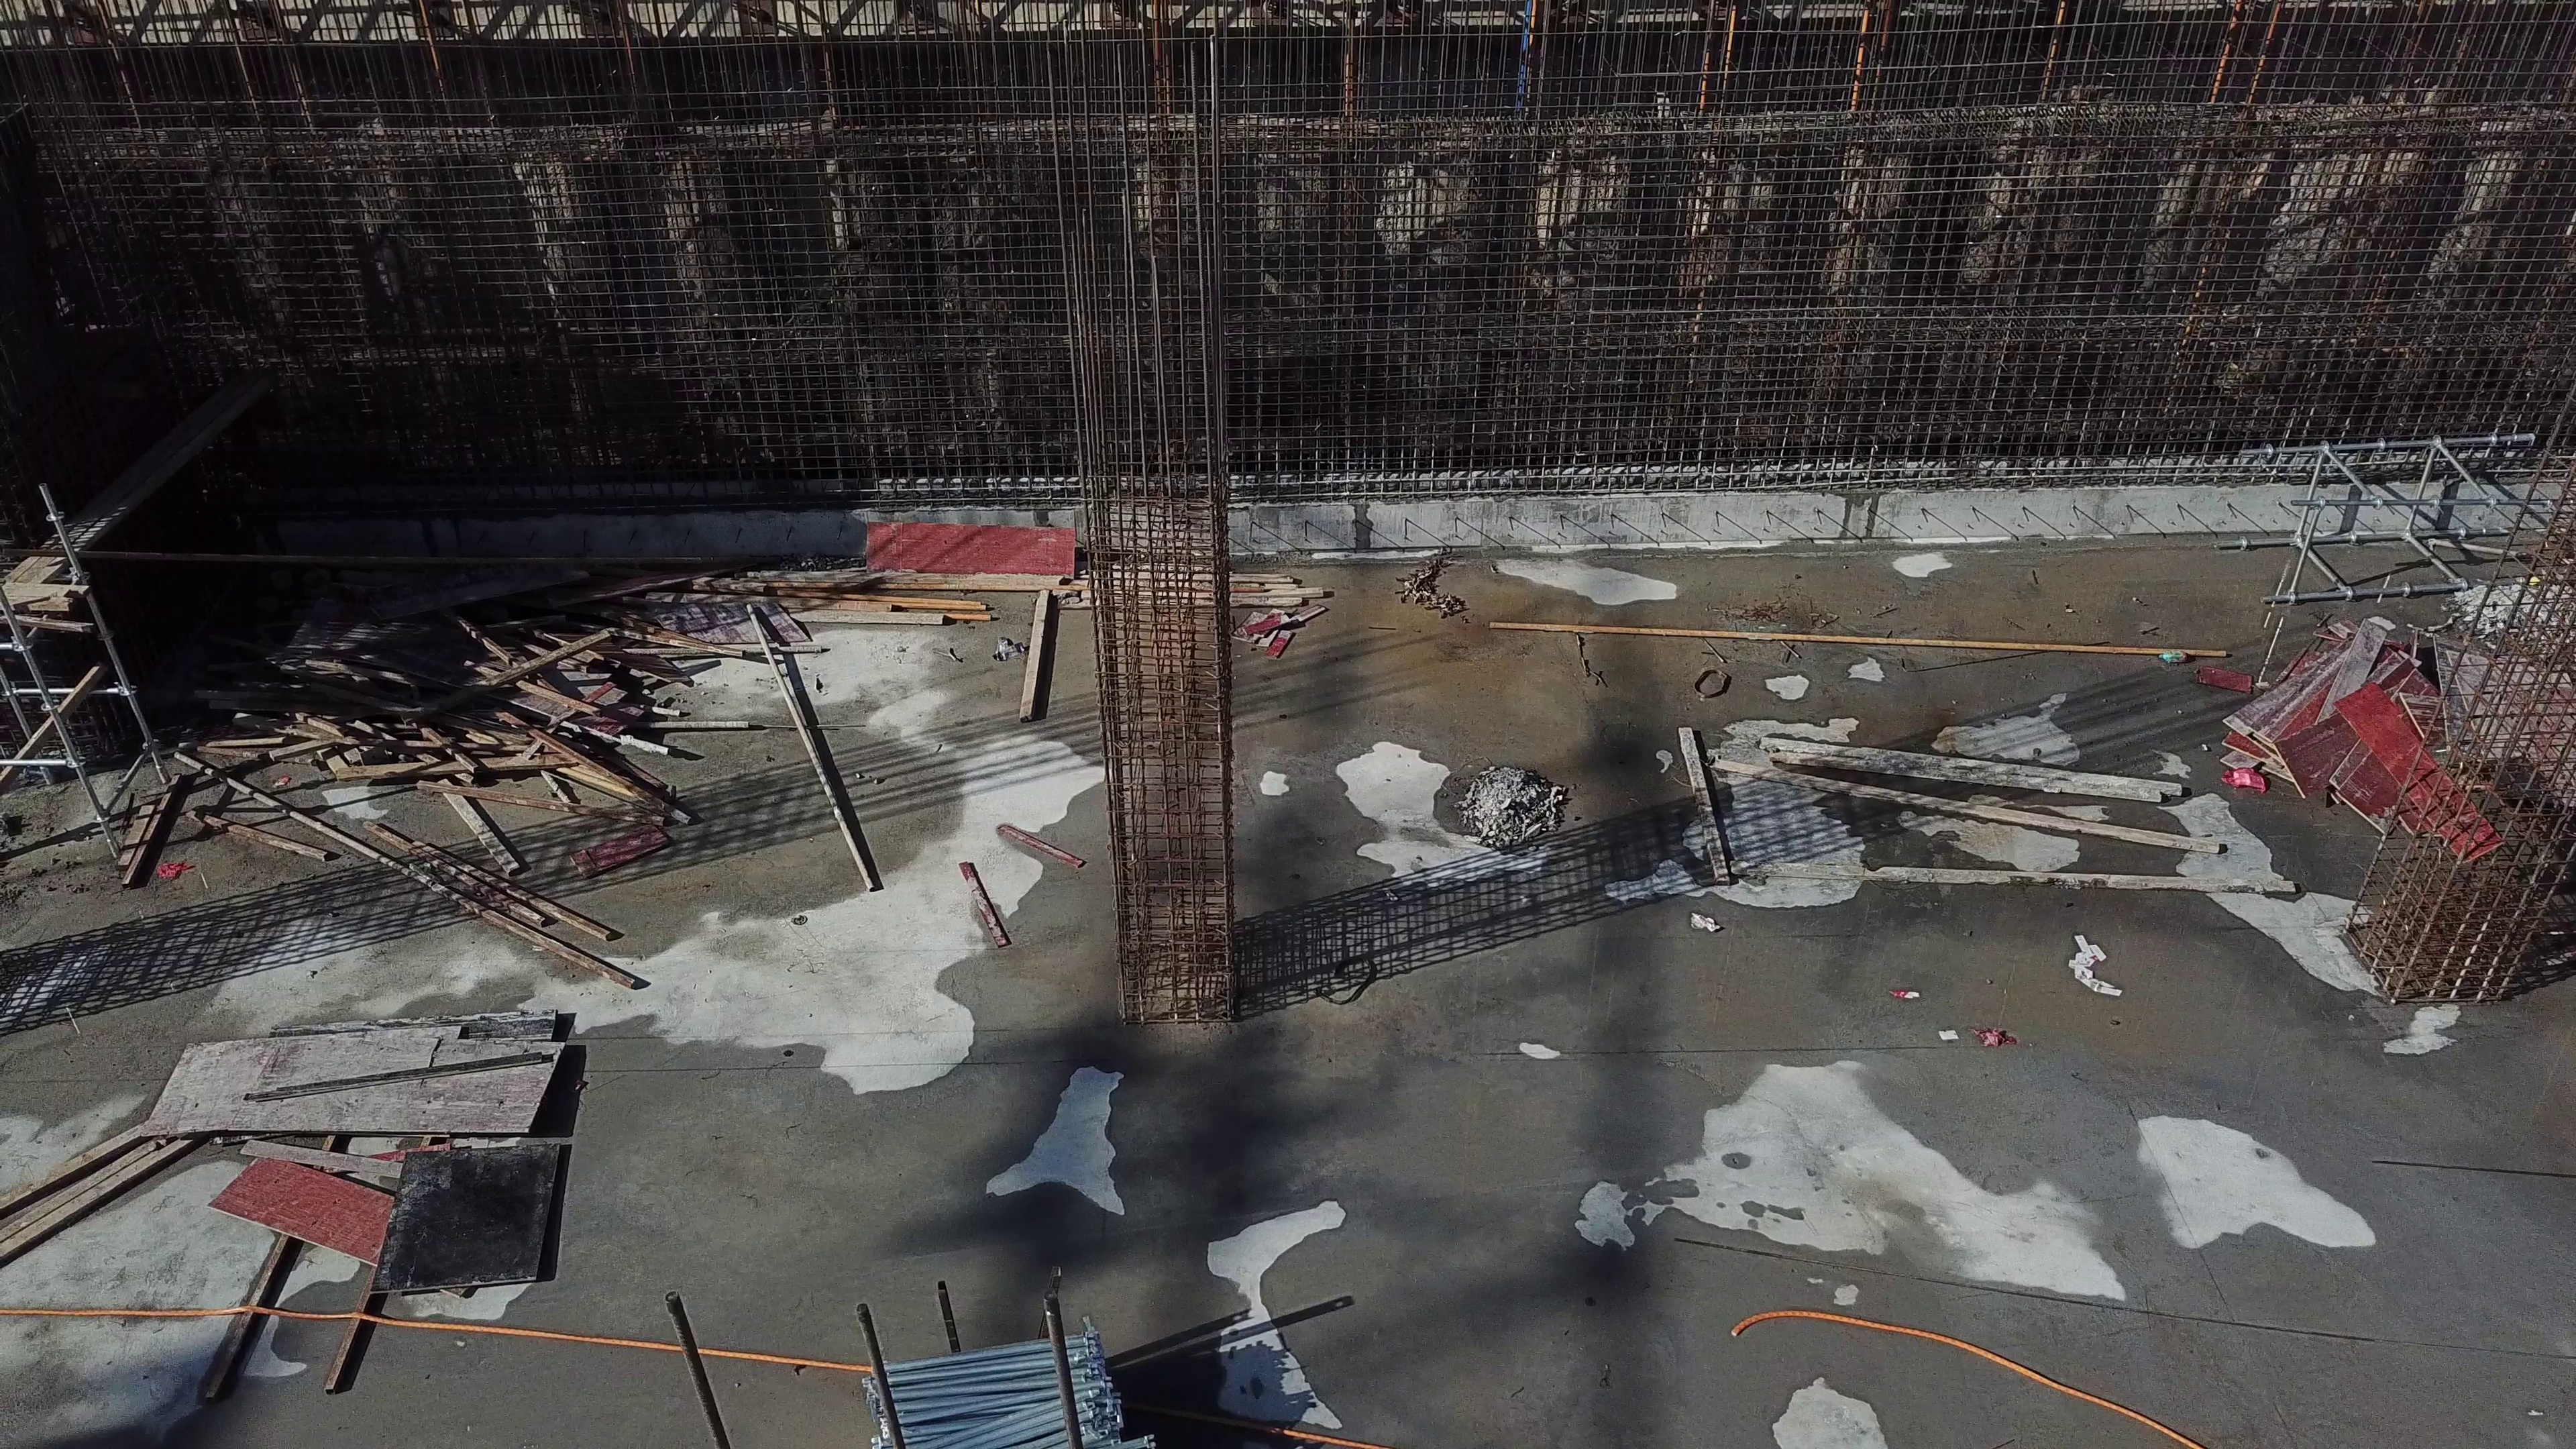board: (2201, 580, 2449, 842)
scaffold: (874, 1307, 1157, 1449)
